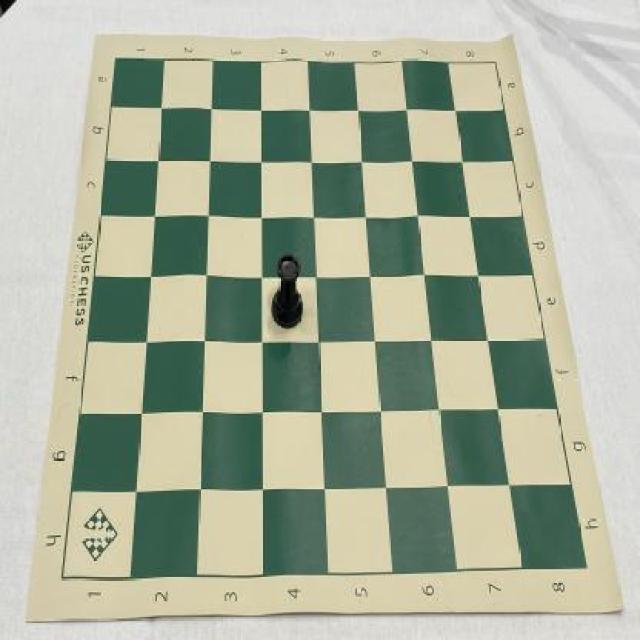black-queen: (270, 254, 304, 332)
